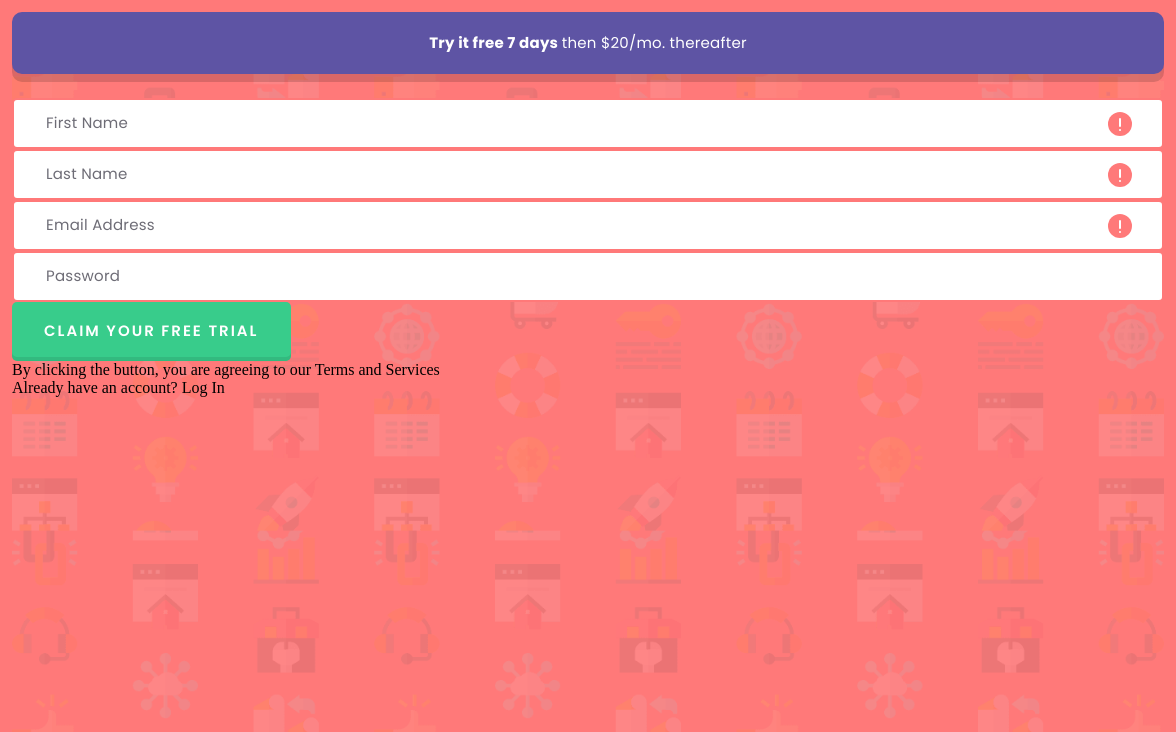
it: form - legacy version, unit tests › should render only email and password fields in login mode
What coordinates should you click on to do the following:
click the link "Log In"
I would click on:
 (203, 387)
Its box is [182, 378, 225, 396].
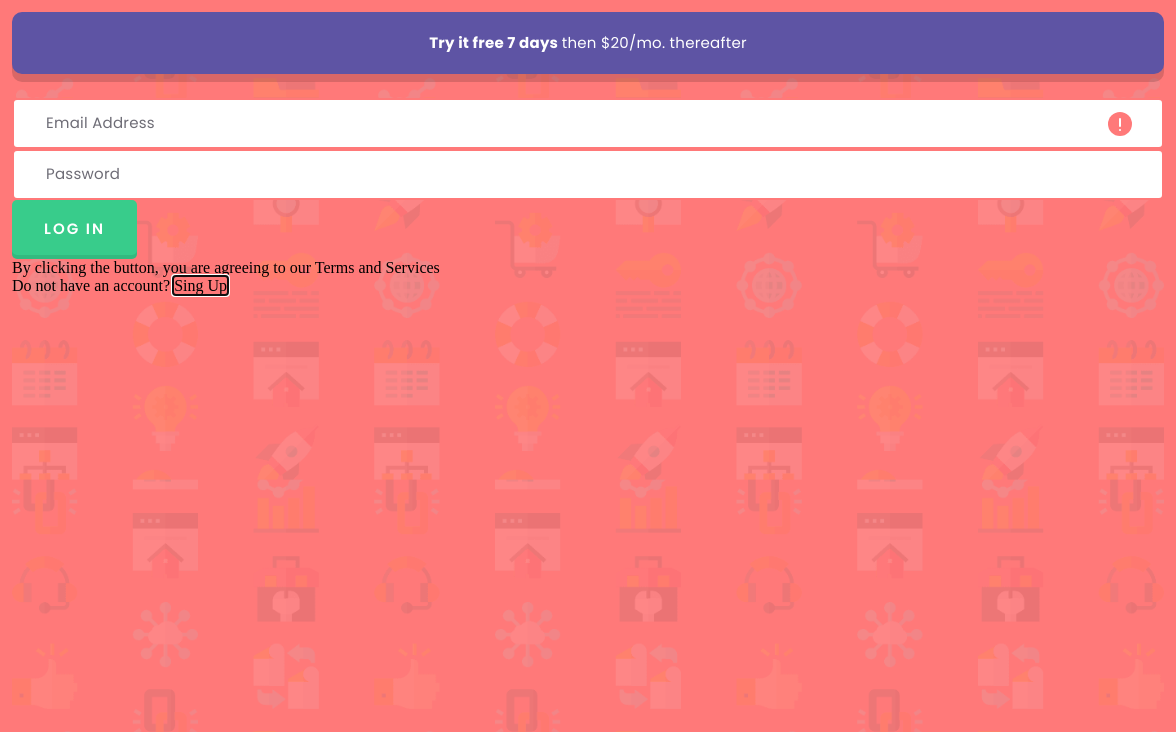
Check: the button "LOG IN" is shown, box [12, 200, 137, 259]
Check: the text "Do not have an account? Sing Up" is shown, box [12, 276, 227, 294]
Check: the link "Sing Up" is shown, box [174, 276, 227, 294]
